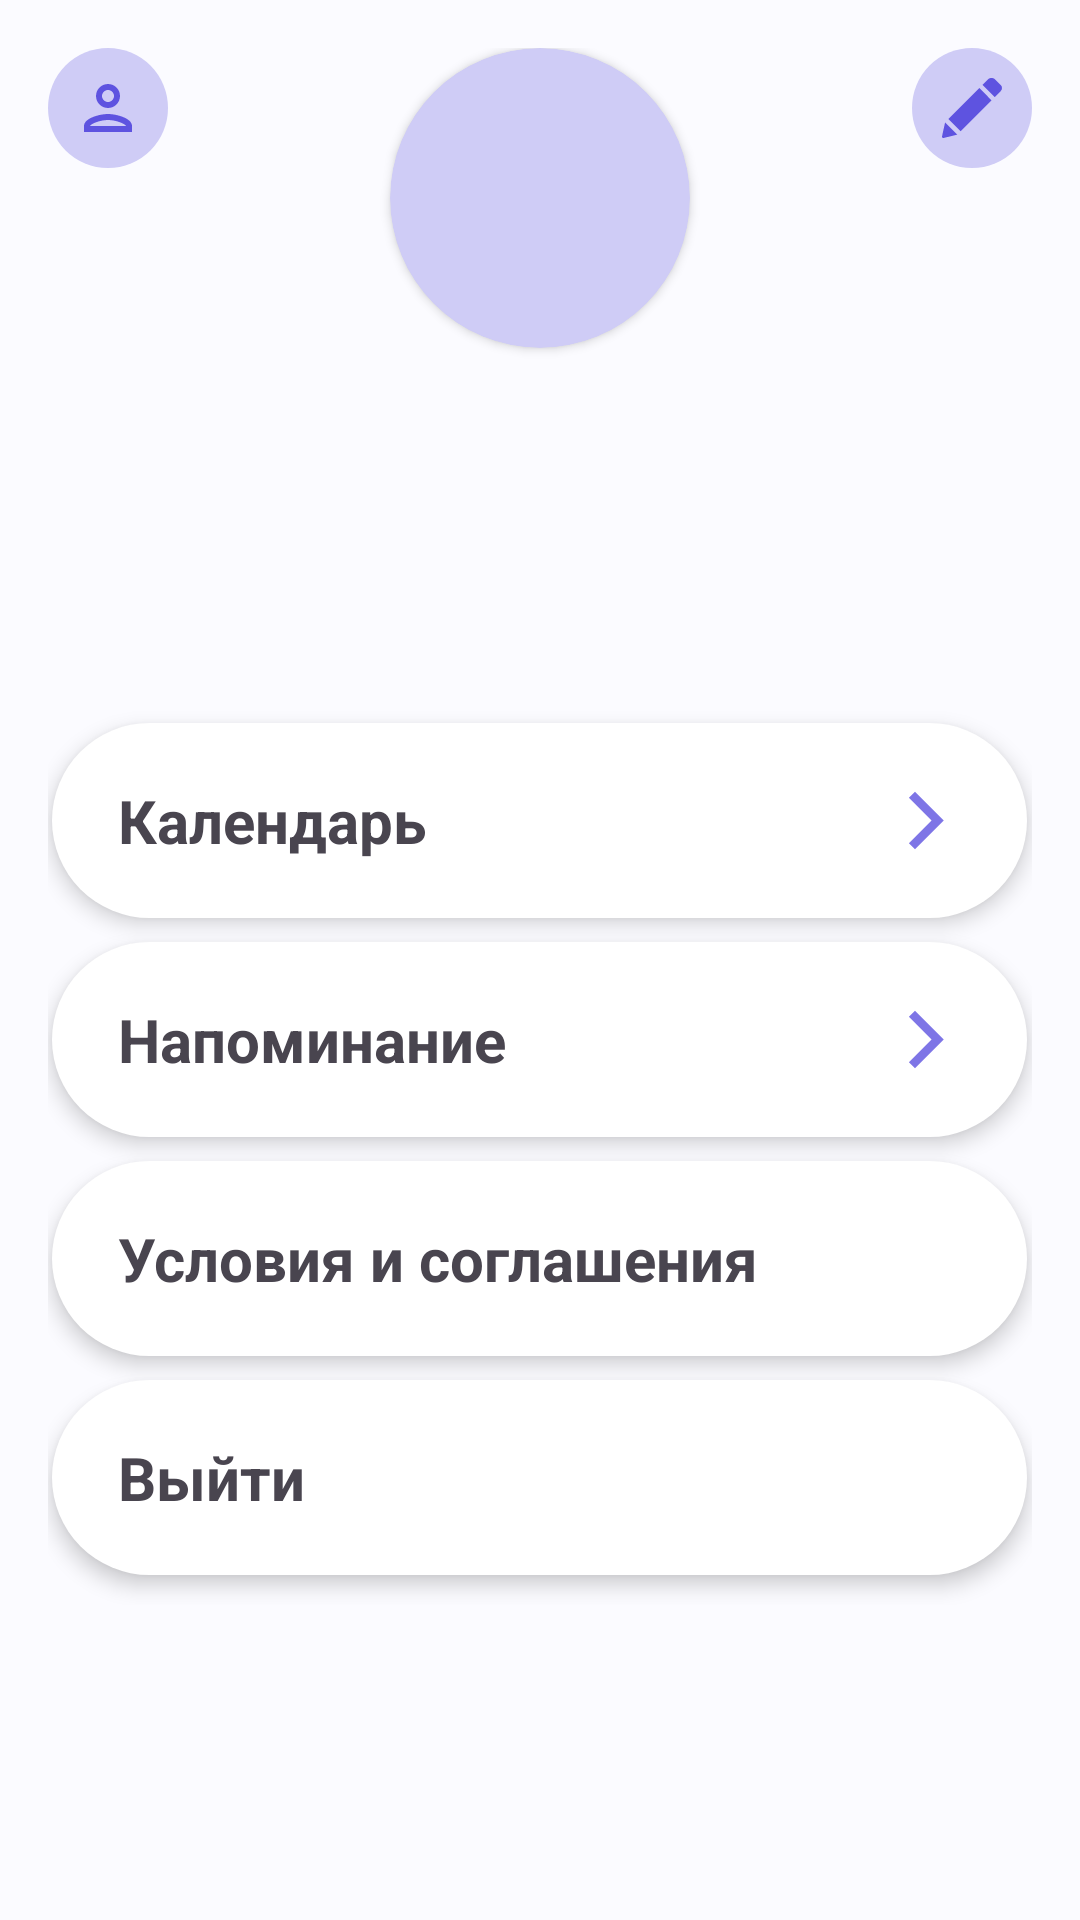

Where icons sit on this 1080px×1920px app screen, as (x1, y1, x2, y2):
arrow forward: (909, 792, 944, 849), (909, 1011, 944, 1068)
editpencil: (912, 48, 1032, 168)
person purpur: (48, 48, 168, 168)
